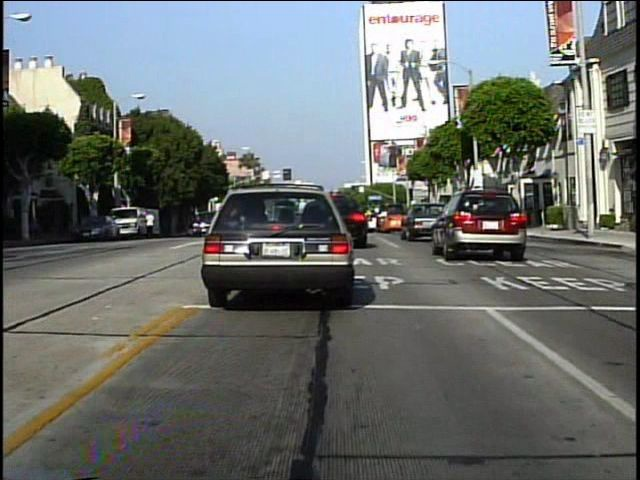person: (146, 208, 158, 240)
